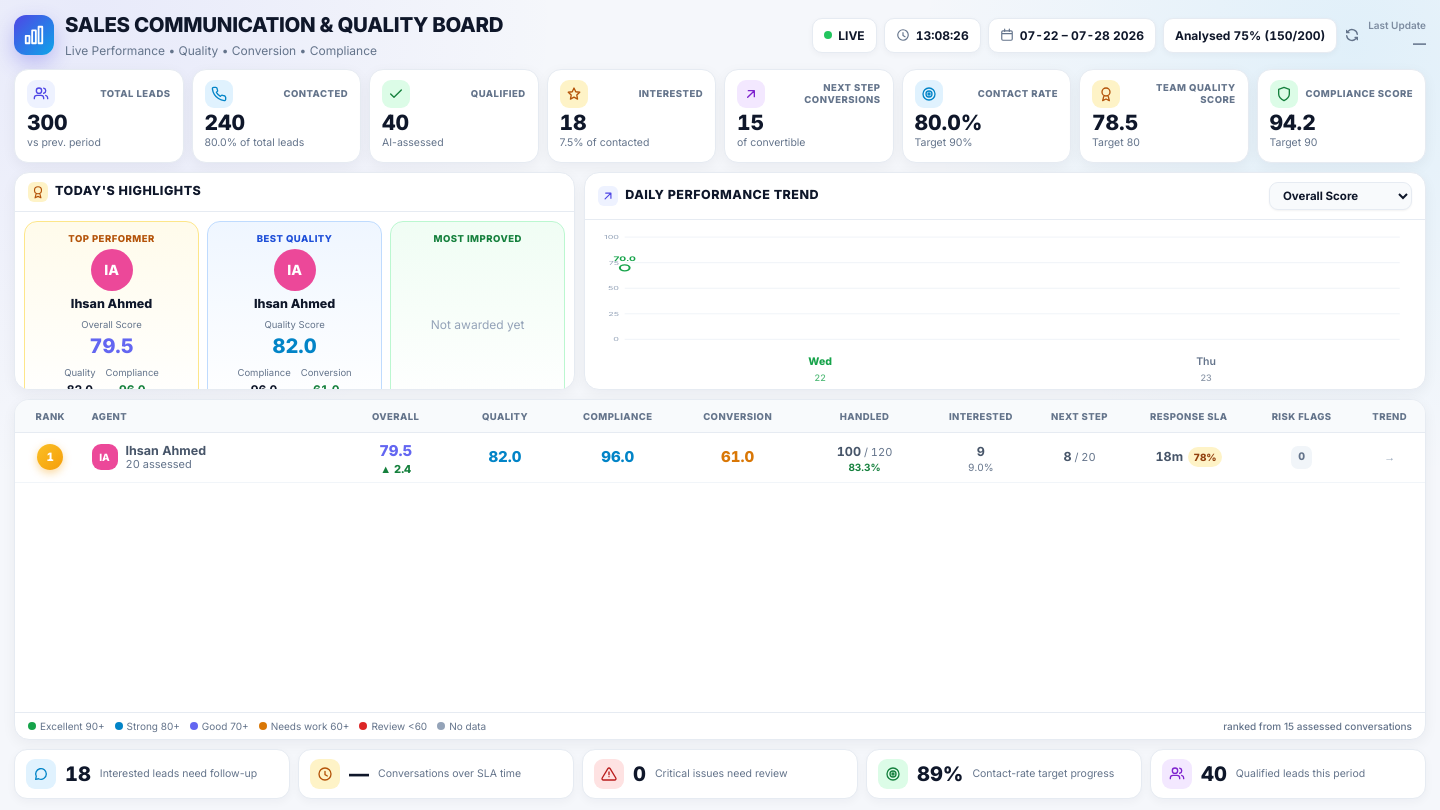
drill-down: both halves of one number › says WHY each unanswered lead was never answered
Click the cell with class "click" showing "100 / 120 83.3%" at (864, 458), box top-left (798, 432), bottom-right (931, 482)
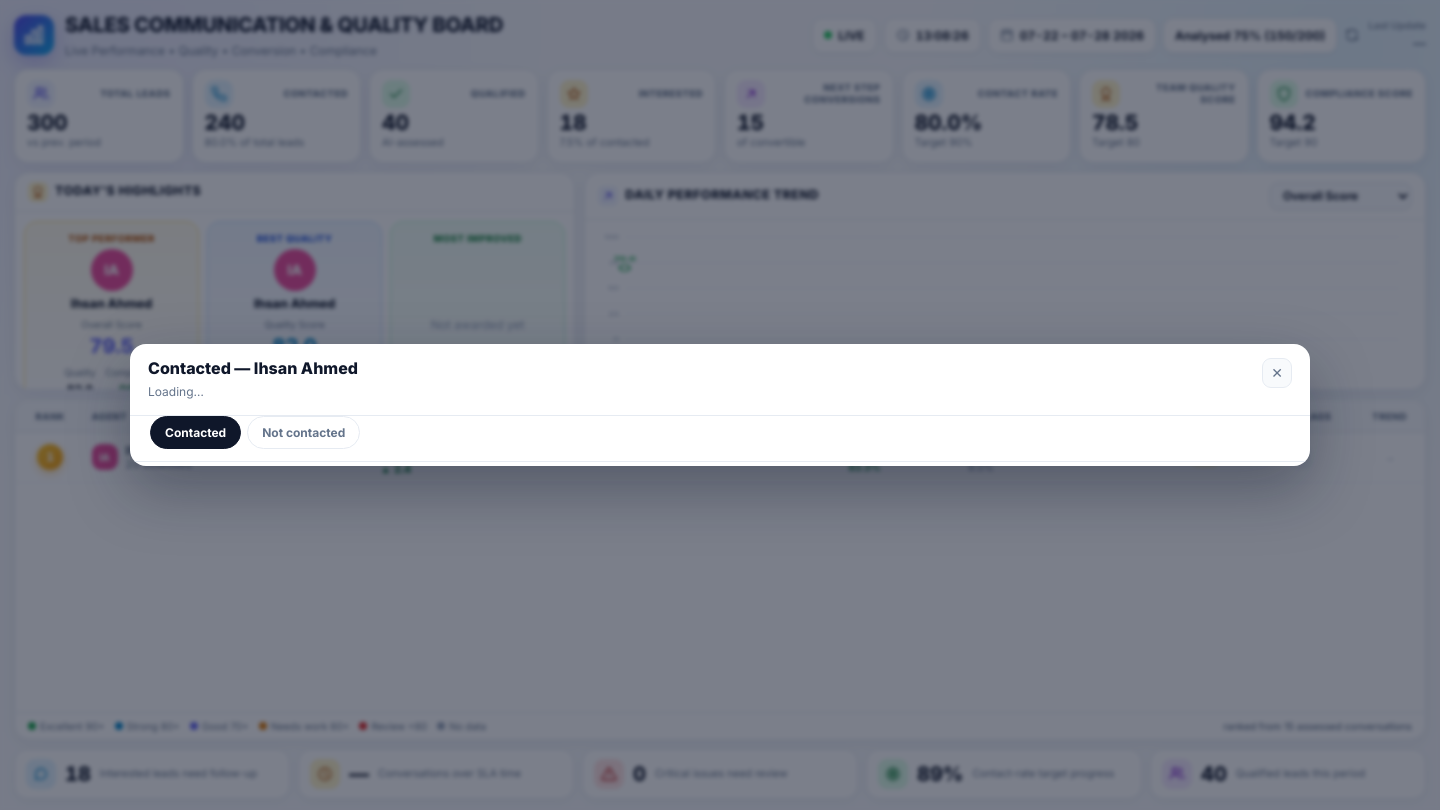
Expected: the element showing "Contacted Not contacted" is shown, top-left (130, 416), bottom-right (1310, 462)
Click the button "Not contacted" at (304, 433), box top-left (247, 416), bottom-right (360, 450)
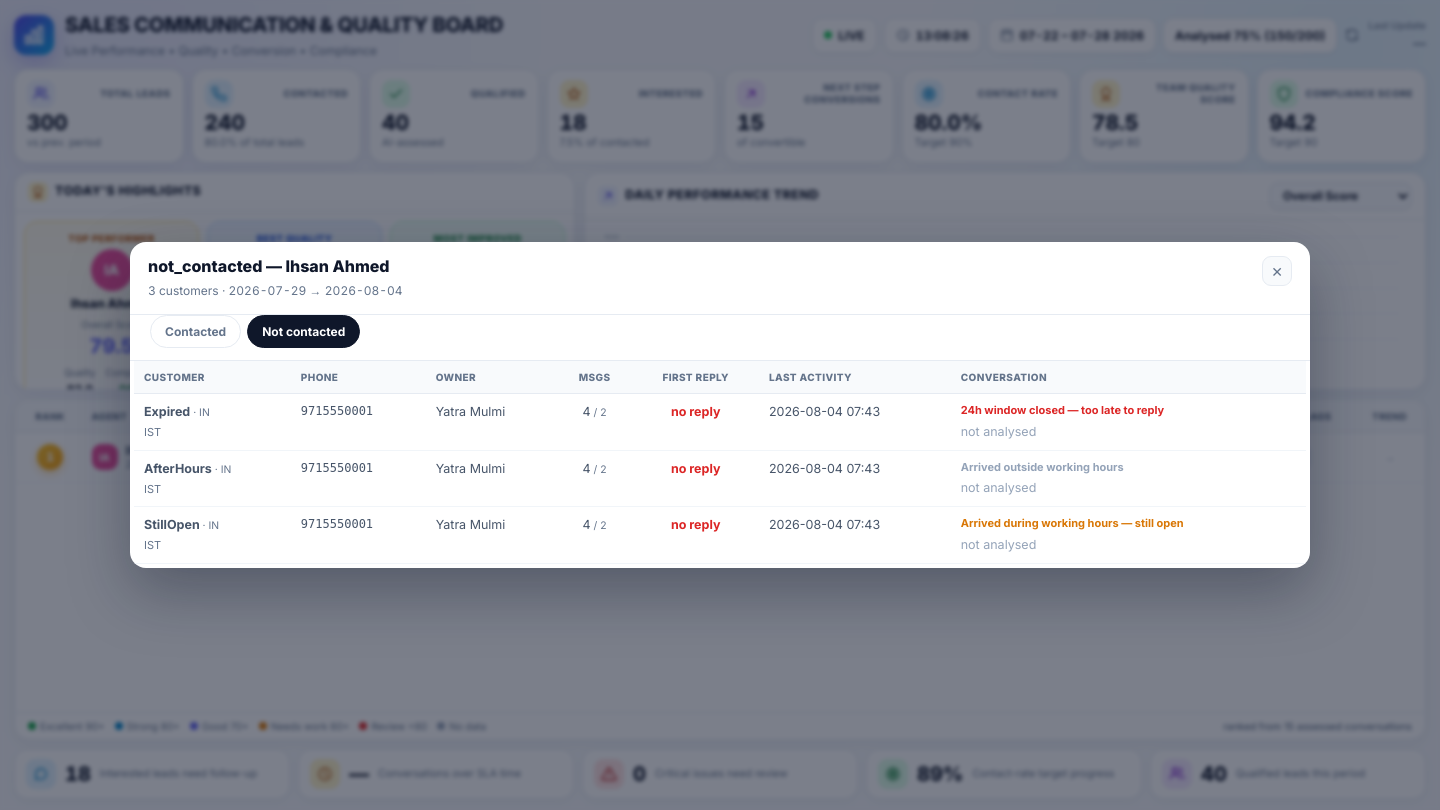
Expected: the table shows "24h window closed", top-left (961, 403), bottom-right (1164, 417)
Expected: the table shows "outside working hours", top-left (961, 460), bottom-right (1124, 474)
Expected: the table shows "still open", top-left (961, 516), bottom-right (1184, 530)
